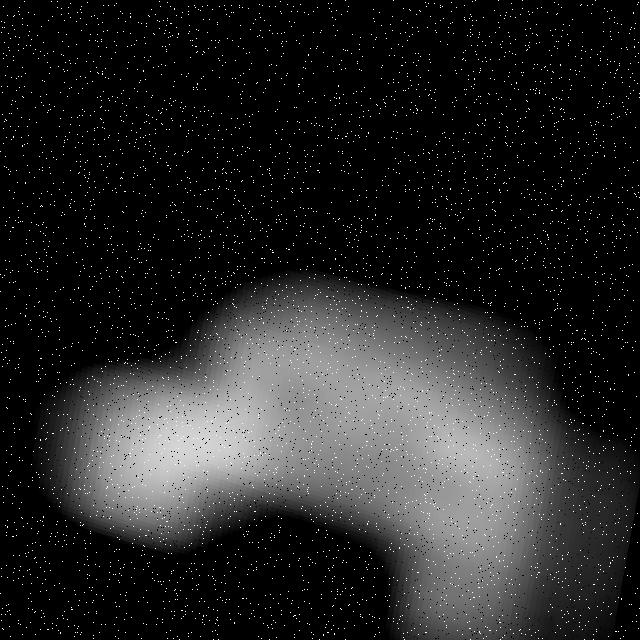person: (6, 159, 640, 640)
